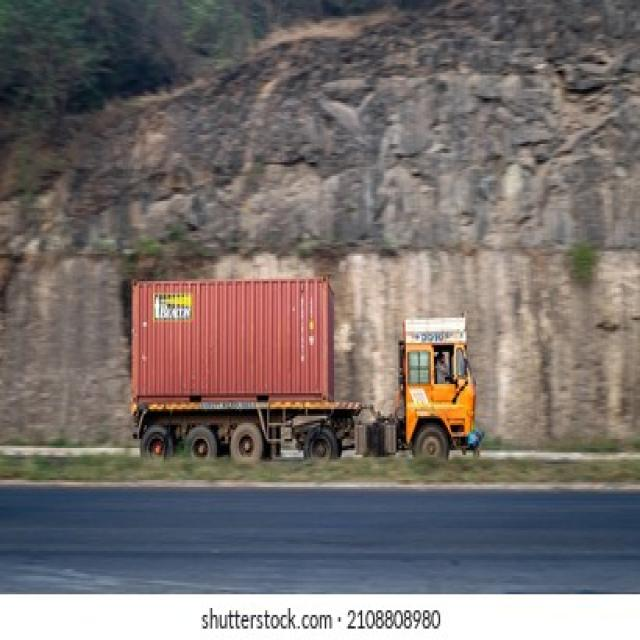truck: (130, 278, 481, 461)
